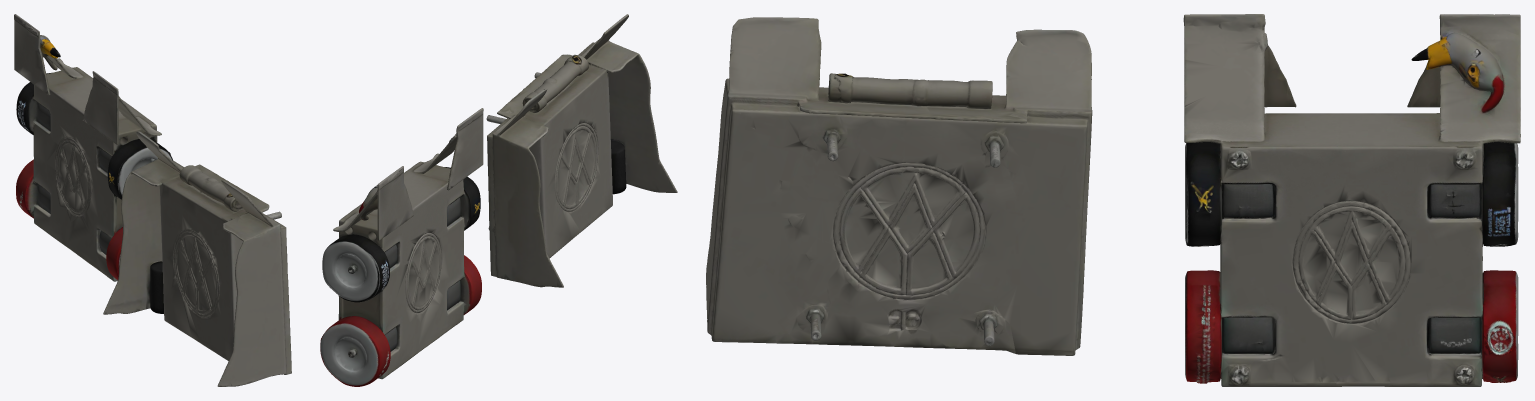
3 renders of one model, left to right at view 1: azimuth 30°, elevation 25°; view 2: azimuth 150°, elevation 25°; view 3: azimuth 270°, elevation 25°, orthographic. The views are drawn at different scales.
Parts seen in each view (by area): view 1: tripo_node_55f81728-d666-49d3-976e-28732f7cd930; view 2: tripo_node_55f81728-d666-49d3-976e-28732f7cd930; view 3: tripo_node_55f81728-d666-49d3-976e-28732f7cd930.
Boxes of the visible parts, x1,y1,x2,y2 form: tripo_node_55f81728-d666-49d3-976e-28732f7cd930: [14, 14, 291, 386]; tripo_node_55f81728-d666-49d3-976e-28732f7cd930: [320, 14, 677, 386]; tripo_node_55f81728-d666-49d3-976e-28732f7cd930: [706, 14, 1520, 386].
Bounding box in the file's own units: 0.2426 × 0.4503 × 0.979.
1 material, 1 textured.
